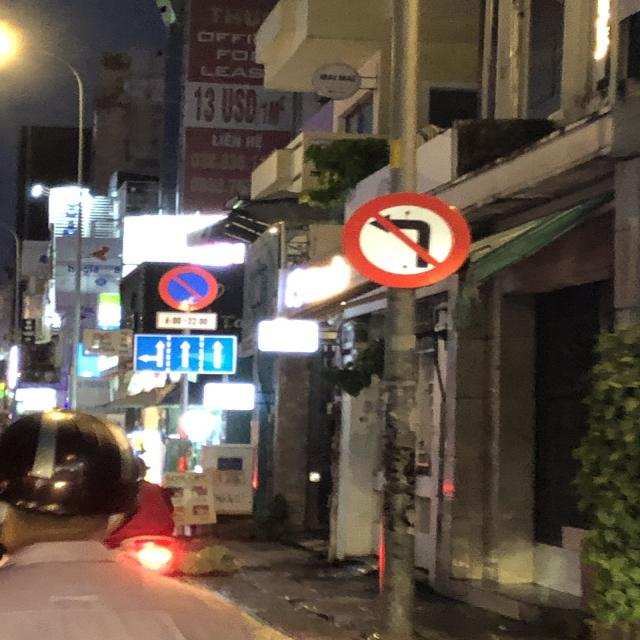Bien bao cam do xe: (150, 260, 226, 311)
Bien bao cam re trai: (340, 190, 486, 293)
